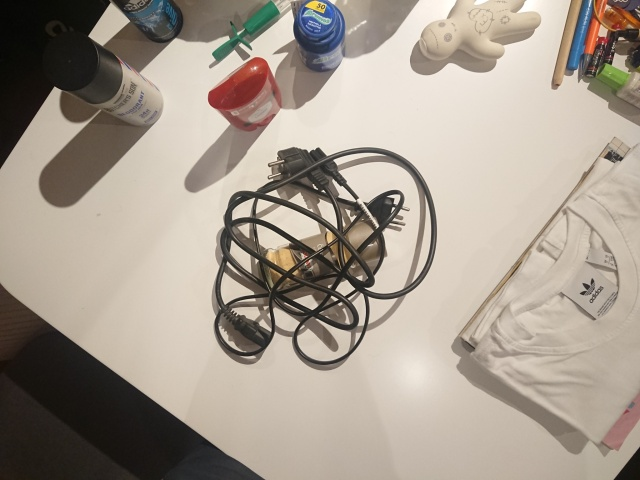Kotanyi Garlic Granules 70g: (257, 215, 391, 297)
